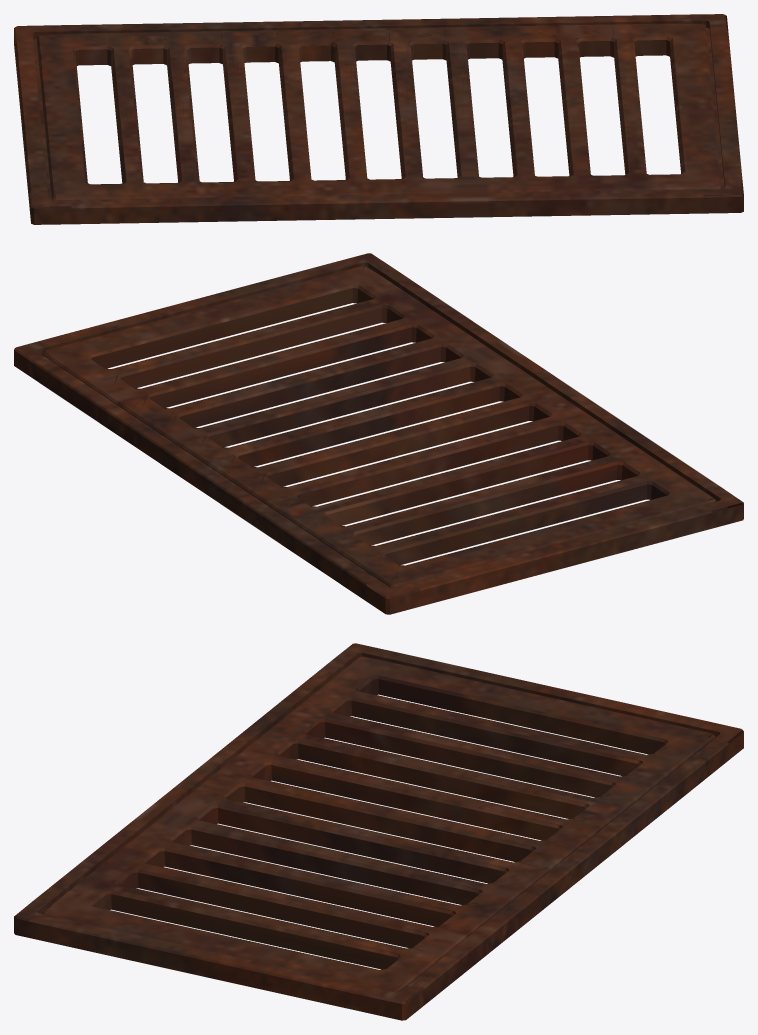
File: tj_drain.fbx
The picture shows the model from 3 angles, top to bottom: view 1: azimuth 30°, elevation 25°; view 2: azimuth 150°, elevation 25°; view 3: azimuth 270°, elevation 25°; orthographic projection. The views are drawn at different scales.
Visible parts, largest first — view 1: tj_drain_LOD0; view 2: tj_drain_LOD0; view 3: tj_drain_LOD0.
Part boxes in pixels (x1=…): tj_drain_LOD0: x1=14, y1=14, x2=743, y2=224; tj_drain_LOD0: x1=14, y1=253, x2=743, y2=614; tj_drain_LOD0: x1=14, y1=643, x2=743, y2=1020.
Size of what is drawn, in the model's own units: 1.3 by 0.0302 by 1.11.
1 material, 1 textured.
